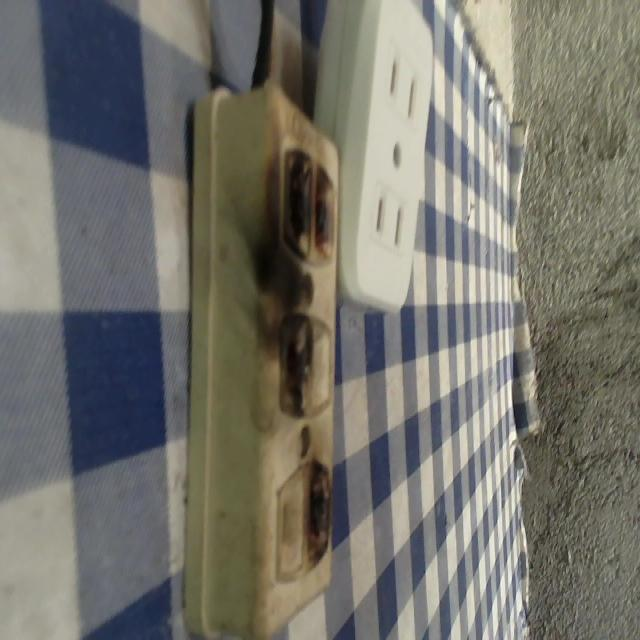-: (275, 147, 338, 261), (273, 313, 316, 419), (303, 458, 339, 562)
